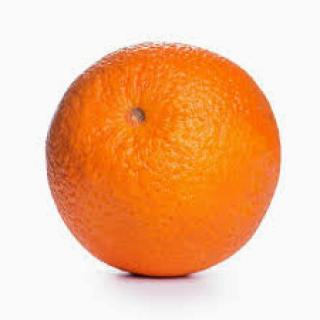orange: (25, 24, 288, 292)
